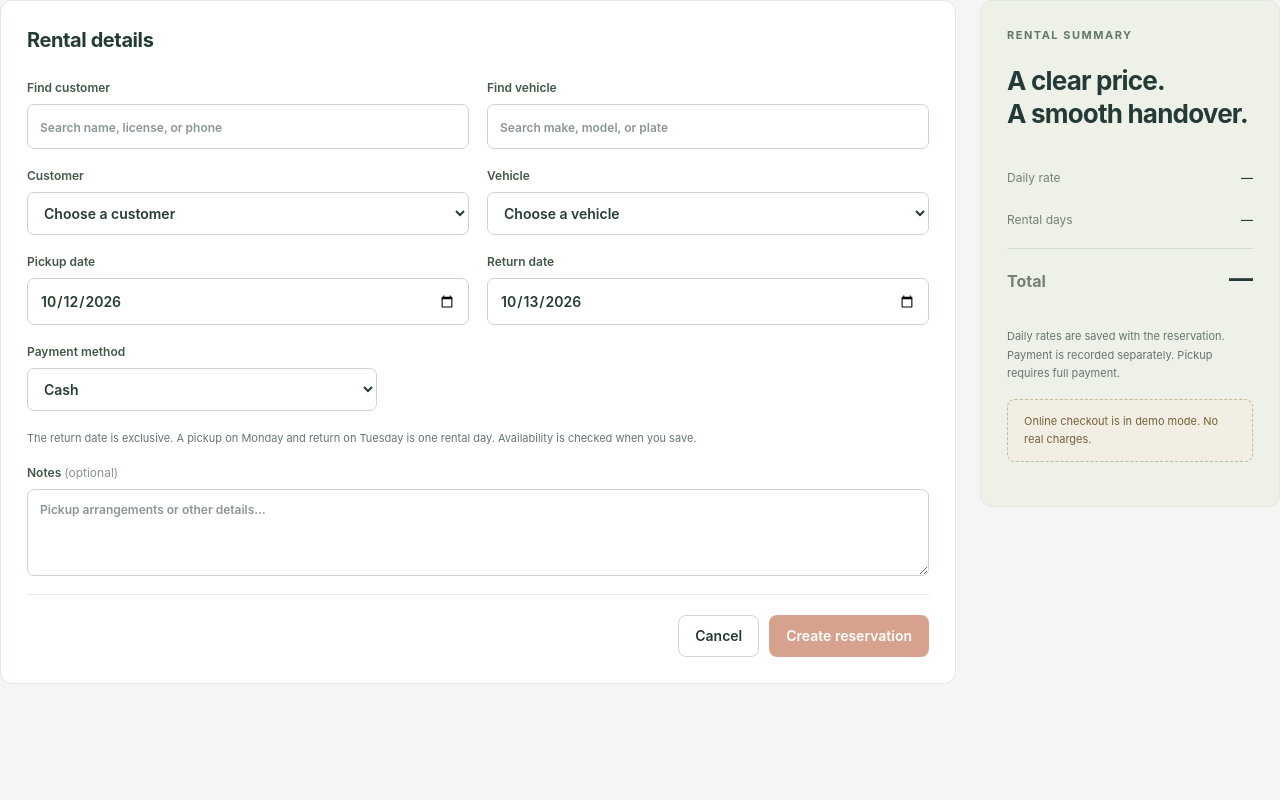
Test: booking quote displays exact total and enables a valid reservation
Select "Toyota Corolla · RD-100 · $45.00/day" in the dropdown labelled "Vehicle": (708,214) [487, 192, 929, 235]
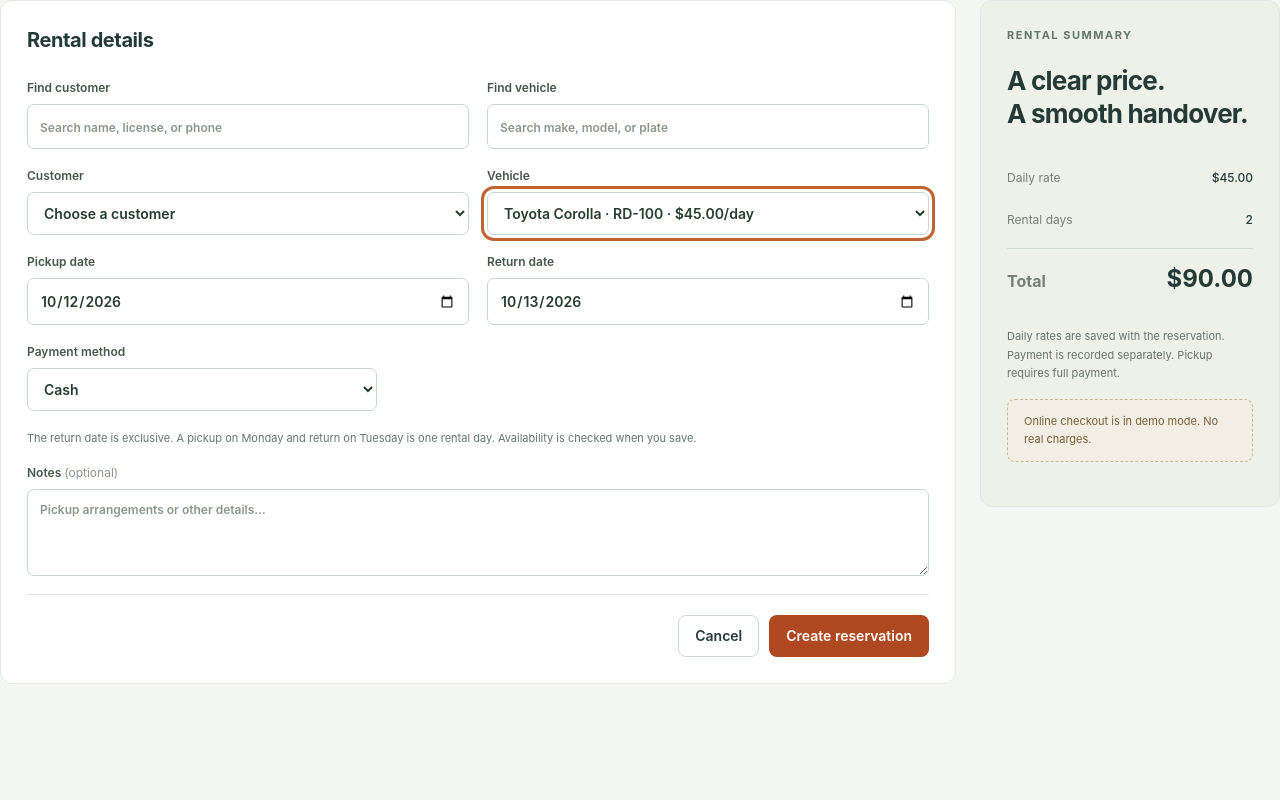
Expected: the text "Online checkout is in demo mode. No real charges." is shown, [1007, 399, 1253, 462]
Now the text "$90.00" is shown, box [1166, 261, 1253, 297]
Now the button "Create reservation" is enabled, box [769, 615, 929, 657]
